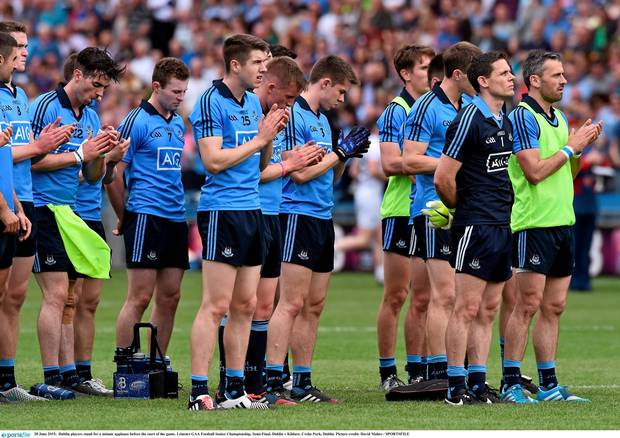player: (190, 28, 288, 403), (26, 40, 110, 391), (295, 43, 367, 384), (123, 54, 199, 371), (518, 41, 586, 392), (454, 48, 506, 398), (390, 41, 435, 390)
